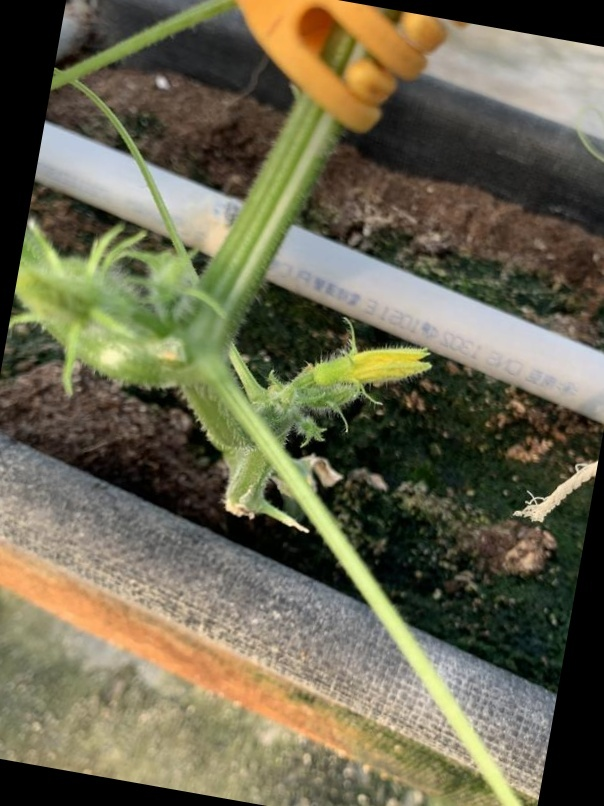bud: (300, 341, 432, 404)
